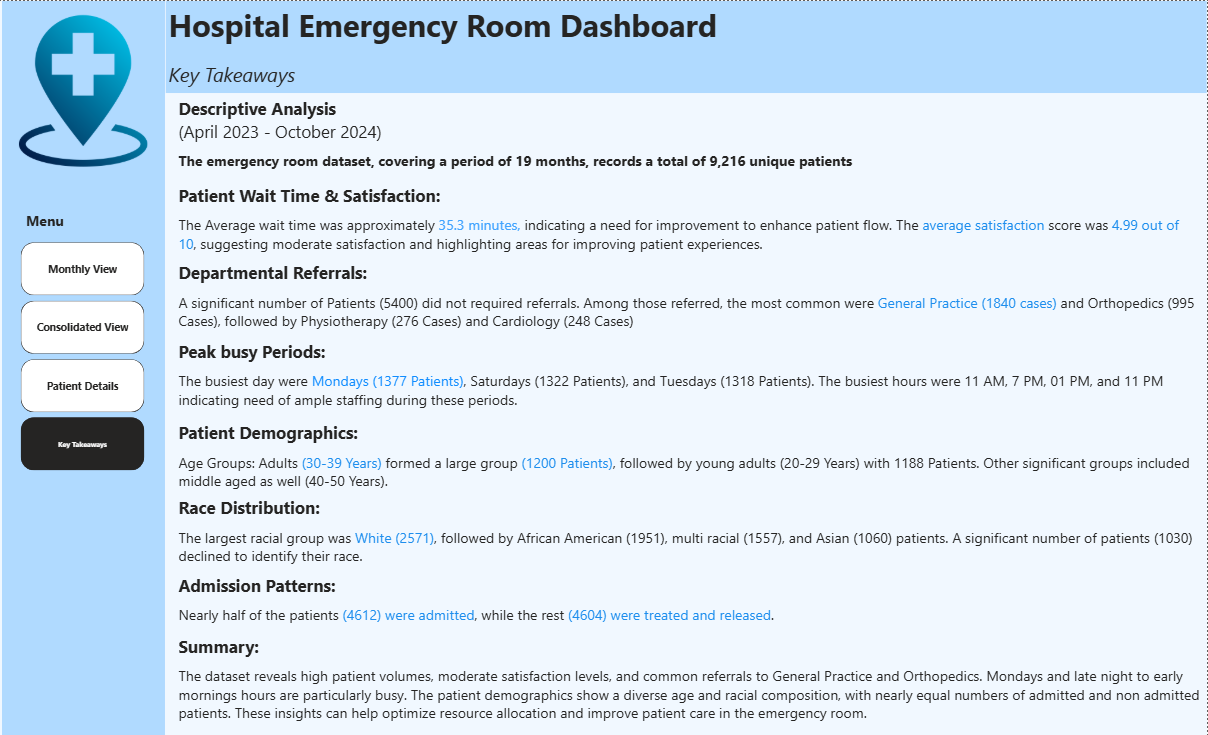

This screenshot's page, from the dashboard's own definition file:
{"tool":"powerbi","page":{"name":"Key Takeaways","canvas":[2300,1400],"ordinal":3},"visuals":[{"type":"shape","box":[9.9,0,310,1399],"z":0},{"type":"shape","box":[320.5,0,1980,175.1],"z":1000},{"type":"textbox","box":[320.5,0,1082.4,108.5],"z":2000},{"type":"textbox","box":[321,109.4,363.8,66.6],"z":3000},{"type":"image","box":[14.3,21.4,299.6,299.6],"z":4000},{"type":"textbox","box":[341,177.7,561.9,103.3],"z":5000},{"type":"textbox","box":[341,281,1933.1,62.4],"z":6000},{"type":"textbox","box":[341,343.4,1933.1,163.3],"z":7000},{"type":"textbox","box":[341,489.9,1959.5,168.1],"z":8000},{"type":"textbox","box":[341,638.8,1959.5,172.9],"z":9000},{"type":"textbox","box":[341,794.8,1959.5,160.9],"z":10000},{"type":"textbox","box":[341,936.5,1959.5,180.1],"z":11000},{"type":"textbox","box":[341,1085.4,1959.5,146.5],"z":12000},{"type":"textbox","box":[341,1200.7,1959.5,199.3],"z":13000},{"type":"pageNavigator","box":[45.6,458.7,235.3,437],"z":14000},{"type":"textbox","box":[50.4,393.8,230.5,72],"z":14001}]}

Visuals, with their boxes on the page's 2300x1400 design canvas (x1, y1, x2, y2). These are canvas units, not pixel positions in the 1208x735 screenshot, which may show the page scaled, cropped or inside an application window:
shape: x1=10 y1=0 x2=320 y2=1399
shape: x1=320 y1=0 x2=2300 y2=175
textbox: x1=320 y1=0 x2=1403 y2=108
textbox: x1=321 y1=109 x2=685 y2=176
image: x1=14 y1=21 x2=314 y2=321
textbox: x1=341 y1=178 x2=903 y2=281
textbox: x1=341 y1=281 x2=2274 y2=343
textbox: x1=341 y1=343 x2=2274 y2=507
textbox: x1=341 y1=490 x2=2300 y2=658
textbox: x1=341 y1=639 x2=2300 y2=812
textbox: x1=341 y1=795 x2=2300 y2=956
textbox: x1=341 y1=936 x2=2300 y2=1117
textbox: x1=341 y1=1085 x2=2300 y2=1232
textbox: x1=341 y1=1201 x2=2300 y2=1400
pageNavigator: x1=46 y1=459 x2=281 y2=896
textbox: x1=50 y1=394 x2=281 y2=466
